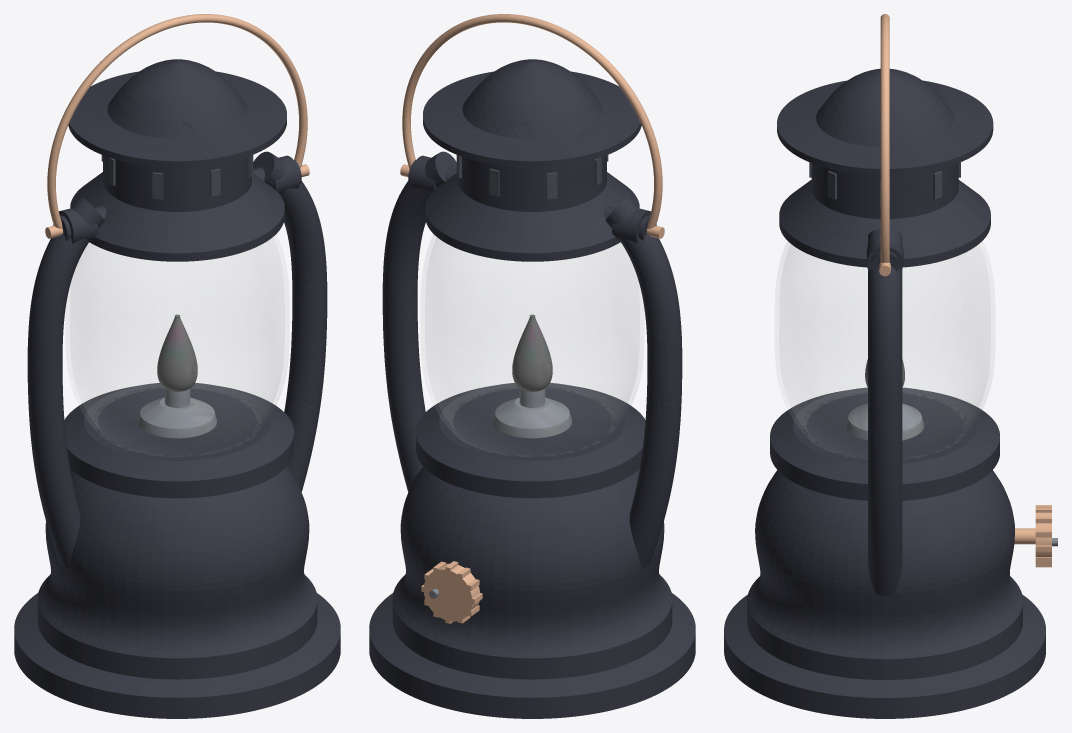
Rendered from Light_Latern__0000.glb.
3 renders of one model, left to right at view 1: azimuth 30°, elevation 25°; view 2: azimuth 150°, elevation 25°; view 3: azimuth 270°, elevation 25°, orthographic.
Visible parts, largest first — view 1: lantern_body::green_body_shell, lantern_body::globe_glass, lantern_body::guard_member_1, lantern_body::guard_member_0, bail_handle::bail_wire, lantern_body::burner_wick, lantern_body::flame, lantern_body::bail_ear_1, lantern_body::bail_ear_0; view 2: lantern_body::green_body_shell, lantern_body::globe_glass, lantern_body::guard_member_1, lantern_body::guard_member_0, bail_handle::bail_wire, lantern_body::burner_wick, wick_knob::knob_knurled_disk, lantern_body::flame, lantern_body::bail_ear_1, lantern_body::bail_ear_0; view 3: lantern_body::green_body_shell, lantern_body::globe_glass, lantern_body::guard_member_0, bail_handle::bail_wire, wick_knob::knob_knurled_disk, lantern_body::burner_wick.
Part boxes in pixels (bbox=[...]): lantern_body::green_body_shell: bbox=[14, 59, 340, 718]; lantern_body::globe_glass: bbox=[70, 237, 284, 431]; lantern_body::guard_member_1: bbox=[27, 197, 104, 568]; lantern_body::guard_member_0: bbox=[253, 151, 327, 491]; bail_handle::bail_wire: bbox=[45, 14, 309, 238]; lantern_body::burner_wick: bbox=[138, 388, 216, 438]; lantern_body::flame: bbox=[157, 314, 197, 391]; lantern_body::bail_ear_1: bbox=[59, 208, 97, 243]; lantern_body::bail_ear_0: bbox=[273, 155, 299, 194]; lantern_body::green_body_shell: bbox=[369, 59, 695, 718]; lantern_body::globe_glass: bbox=[425, 237, 639, 431]; lantern_body::guard_member_1: bbox=[605, 197, 682, 568]; lantern_body::guard_member_0: bbox=[382, 151, 456, 491]; bail_handle::bail_wire: bbox=[400, 14, 664, 238]; lantern_body::burner_wick: bbox=[493, 388, 571, 438]; wick_knob::knob_knurled_disk: bbox=[421, 561, 482, 623]; lantern_body::flame: bbox=[512, 314, 552, 391]; lantern_body::bail_ear_1: bbox=[612, 208, 650, 243]; lantern_body::bail_ear_0: bbox=[410, 155, 436, 193]; lantern_body::green_body_shell: bbox=[724, 68, 1045, 718]; lantern_body::globe_glass: bbox=[779, 244, 990, 436]; lantern_body::guard_member_0: bbox=[868, 228, 902, 595]; bail_handle::bail_wire: bbox=[879, 14, 890, 276]; wick_knob::knob_knurled_disk: bbox=[1014, 505, 1051, 567]; lantern_body::burner_wick: bbox=[846, 403, 924, 440].
Bounding box in the file's own units: 0.146 × 0.2988 × 0.1451.
Materials: 6 (5 with a texture image).
